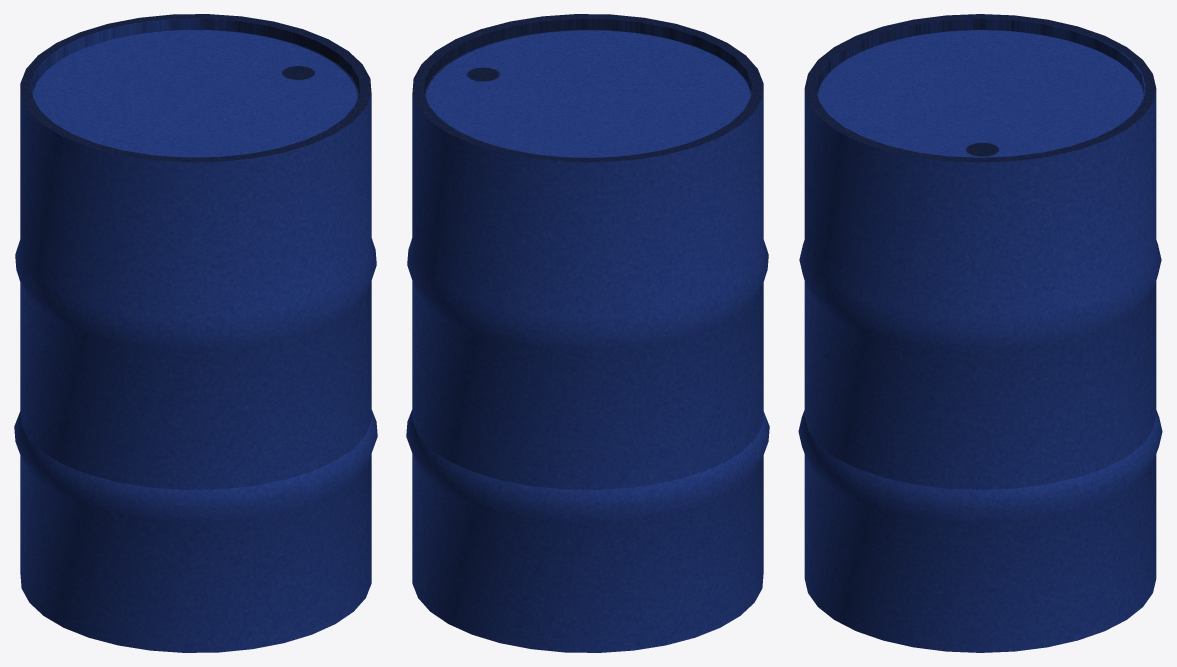
File: barrel.glb
The picture shows the model from 3 angles, left to right: view 1: azimuth 30°, elevation 25°; view 2: azimuth 150°, elevation 25°; view 3: azimuth 270°, elevation 25°; orthographic projection.
Visible parts, largest first — view 1: Cylinder; view 2: Cylinder; view 3: Cylinder.
Boxes of the visible parts, <box> form: Cylinder: <box>14,14,377,652</box>; Cylinder: <box>406,14,769,652</box>; Cylinder: <box>798,14,1162,652</box>.
Size of the model in its own units: 2.69 by 4 by 2.69.
1 material, 1 textured.
